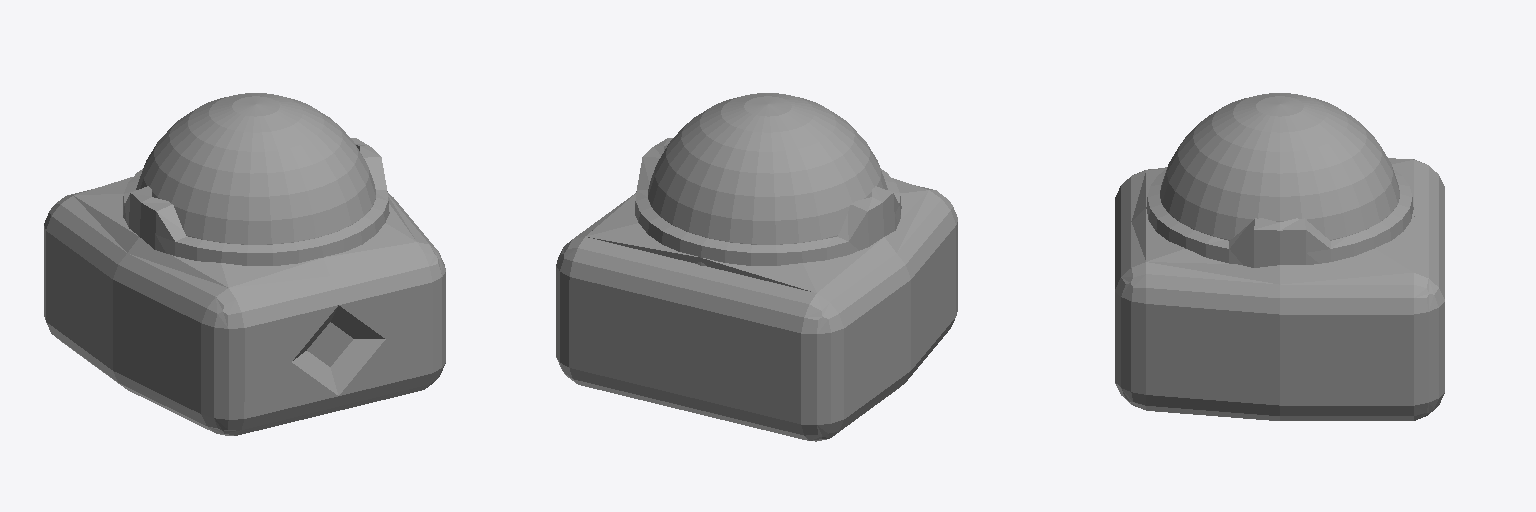
Rendered from cockpit_small.obj.
3 renders of one model, left to right at view 1: azimuth 30°, elevation 25°; view 2: azimuth 150°, elevation 25°; view 3: azimuth 270°, elevation 25°, orthographic.
Visible parts, largest first — view 1: Cube.008_Cube.017, Sphere, Sphere.001; view 2: Cube.008_Cube.017, Sphere, Sphere.001; view 3: Cube.008_Cube.017, Sphere, Sphere.001.
Boxes of the visible parts, box(x1,y1,x2,y2) form: Cube.008_Cube.017: box(44, 177, 445, 435); Sphere: box(136, 93, 375, 244); Sphere.001: box(123, 138, 389, 265); Cube.008_Cube.017: box(556, 178, 957, 441); Sphere: box(648, 93, 887, 244); Sphere.001: box(635, 138, 901, 265); Cube.008_Cube.017: box(1115, 158, 1444, 420); Sphere: box(1160, 93, 1399, 240); Sphere.001: box(1146, 169, 1414, 267).
Bounding box in the file's own units: 0.9895 × 1 × 0.9895.